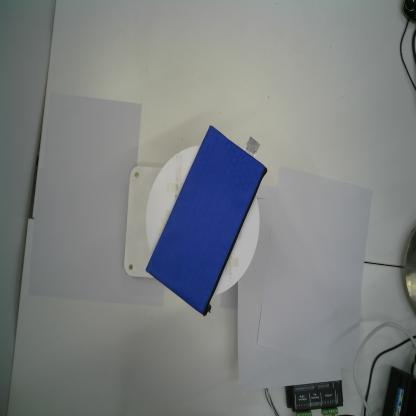Stationery: (145, 124, 267, 316)
